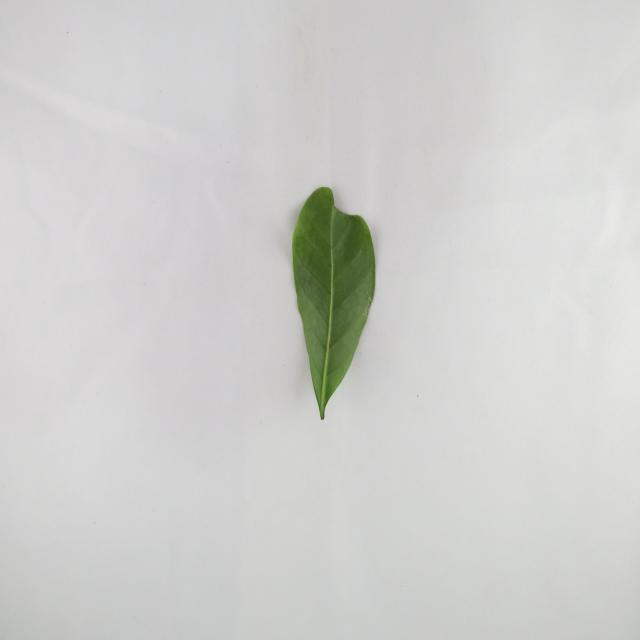DeficienciaNutricional-Boro: (292, 187, 375, 418)
